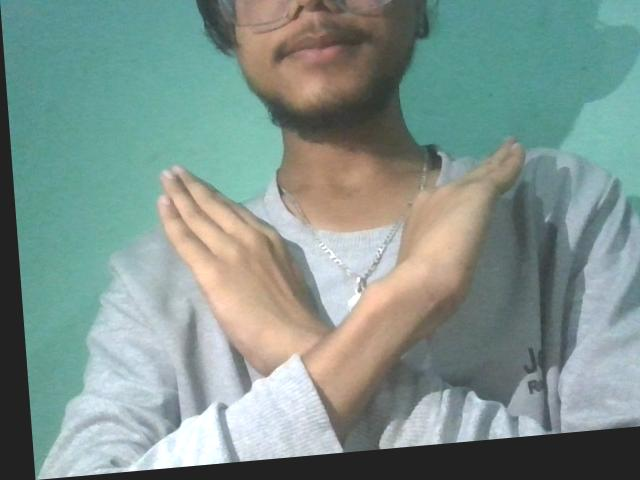dont: (129, 130, 560, 411)
